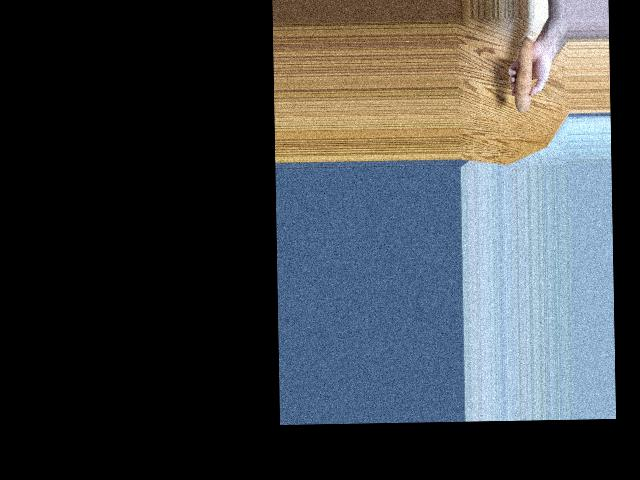sweet_potato: (508, 38, 533, 115)
